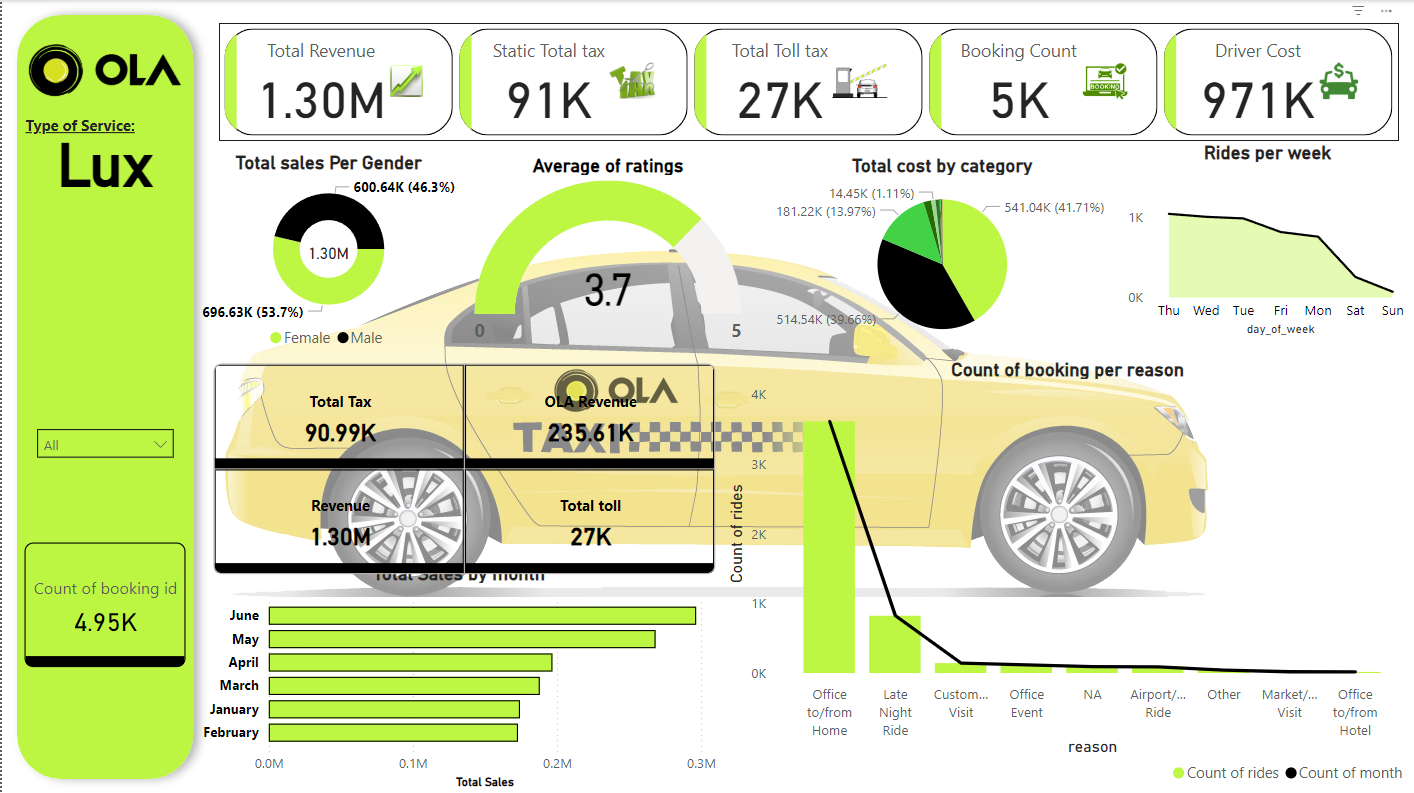

The page's visual inventory and layout, read from the dashboard file:
{"tool":"powerbi","page":{"name":"Page 1","canvas":[1280,720],"ordinal":0},"visuals":[{"type":"shape","box":[0,0,187,720],"z":0},{"type":"slicer","fields":{"Values":["Data.category"]},"box":[22,379,144,49],"z":1000},{"type":"cardVisual","fields":{"Data":["Data.Static Total Sales","Data.Static Total tax","Data.Static Toll tax","Data.Static count of booking","Data.Static Driver Cost"]},"box":[197,21,1070,107],"z":2000},{"type":"donutChart","title":"Total sales Per Gender","fields":{"Y":["Sum(Data.total_trip_cost)"],"Category":["Data.gender"]},"box":[144,137,304,188],"z":3000},{"type":"gauge","title":"Average of ratings","fields":{"Y":["Avg(Data.ratings)"],"MaxValue":["Data.total rateing"]},"box":[423,140,254,181],"z":4000},{"type":"pieChart","title":"Total cost by category","fields":{"Y":["Sum(Data.total_trip_cost)"],"Category":["Data.category"]},"box":[689,140,327,181],"z":5000},{"type":"areaChart","title":"Rides per week","fields":{"Category":["Data.day_of_week"],"Y":["CountNonNull(Data.booking id)"]},"box":[1016,128,264,181],"z":6000},{"type":"card","fields":{"Values":["Sum(Data.total_trip_cost)"]},"box":[200,168,191,126],"z":7000},{"type":"barChart","title":"Total Sales by month","fields":{"Category":["Data.month"],"Y":["Sum(Data.total_trip_cost)"]},"box":[176,510,477,210],"z":8000},{"type":"image","box":[16,7,154,112],"z":9000},{"type":"lineStackedColumnComboChart","title":"Count of booking per reason","fields":{"Category":["Data.reason"],"Y":["CountNonNull(Data.booking id)"],"Y2":["CountNonNull(Data.month)"]},"box":[653,325,627,395],"z":10000},{"type":"card","fields":{"Values":["Min(Data.category)"]},"box":[22,119,144,68],"z":11000},{"type":"cardVisual","fields":{"Data":["Sum(Data.total_tax)","Sum(Data.commission_base_cost)","Sum(Data.total_trip_cost)","Sum(Data.toll)"]},"box":[187,325,466,202],"z":12000},{"type":"textbox","box":[16,100,121,28],"z":13000},{"type":"cardVisual","fields":{"Data":["CountNonNull(Data.booking id)"]},"box":[15,487,156,123],"z":14000}]}

Visuals, with their boxes in screenshot pixels (x1, y1, x2, y2), scaled from the page's 1280x720 canvas onto the 1414x793 screenshot:
shape: box=[0, 0, 207, 792]
slicer - Data.category: box=[24, 417, 183, 471]
cardVisual - Data.Static Total Sales x Data.Static Total tax: box=[218, 23, 1400, 141]
"Total sales Per Gender" donutChart: box=[159, 151, 495, 358]
"Average of ratings" gauge: box=[467, 154, 748, 354]
"Total cost by category" pieChart: box=[761, 154, 1122, 354]
"Rides per week" areaChart: box=[1122, 141, 1413, 340]
card - Sum(Data.total_trip_cost): box=[221, 185, 432, 324]
"Total Sales by month" barChart: box=[194, 562, 721, 792]
image: box=[18, 8, 188, 131]
"Count of booking per reason" lineStackedColumnComboChart: box=[721, 358, 1413, 792]
card - Min(Data.category): box=[24, 131, 183, 206]
cardVisual - Sum(Data.total_tax) x Sum(Data.commission_base_cost): box=[207, 358, 721, 580]
textbox: box=[18, 110, 151, 141]
cardVisual - CountNonNull(Data.booking id): box=[17, 536, 189, 672]
